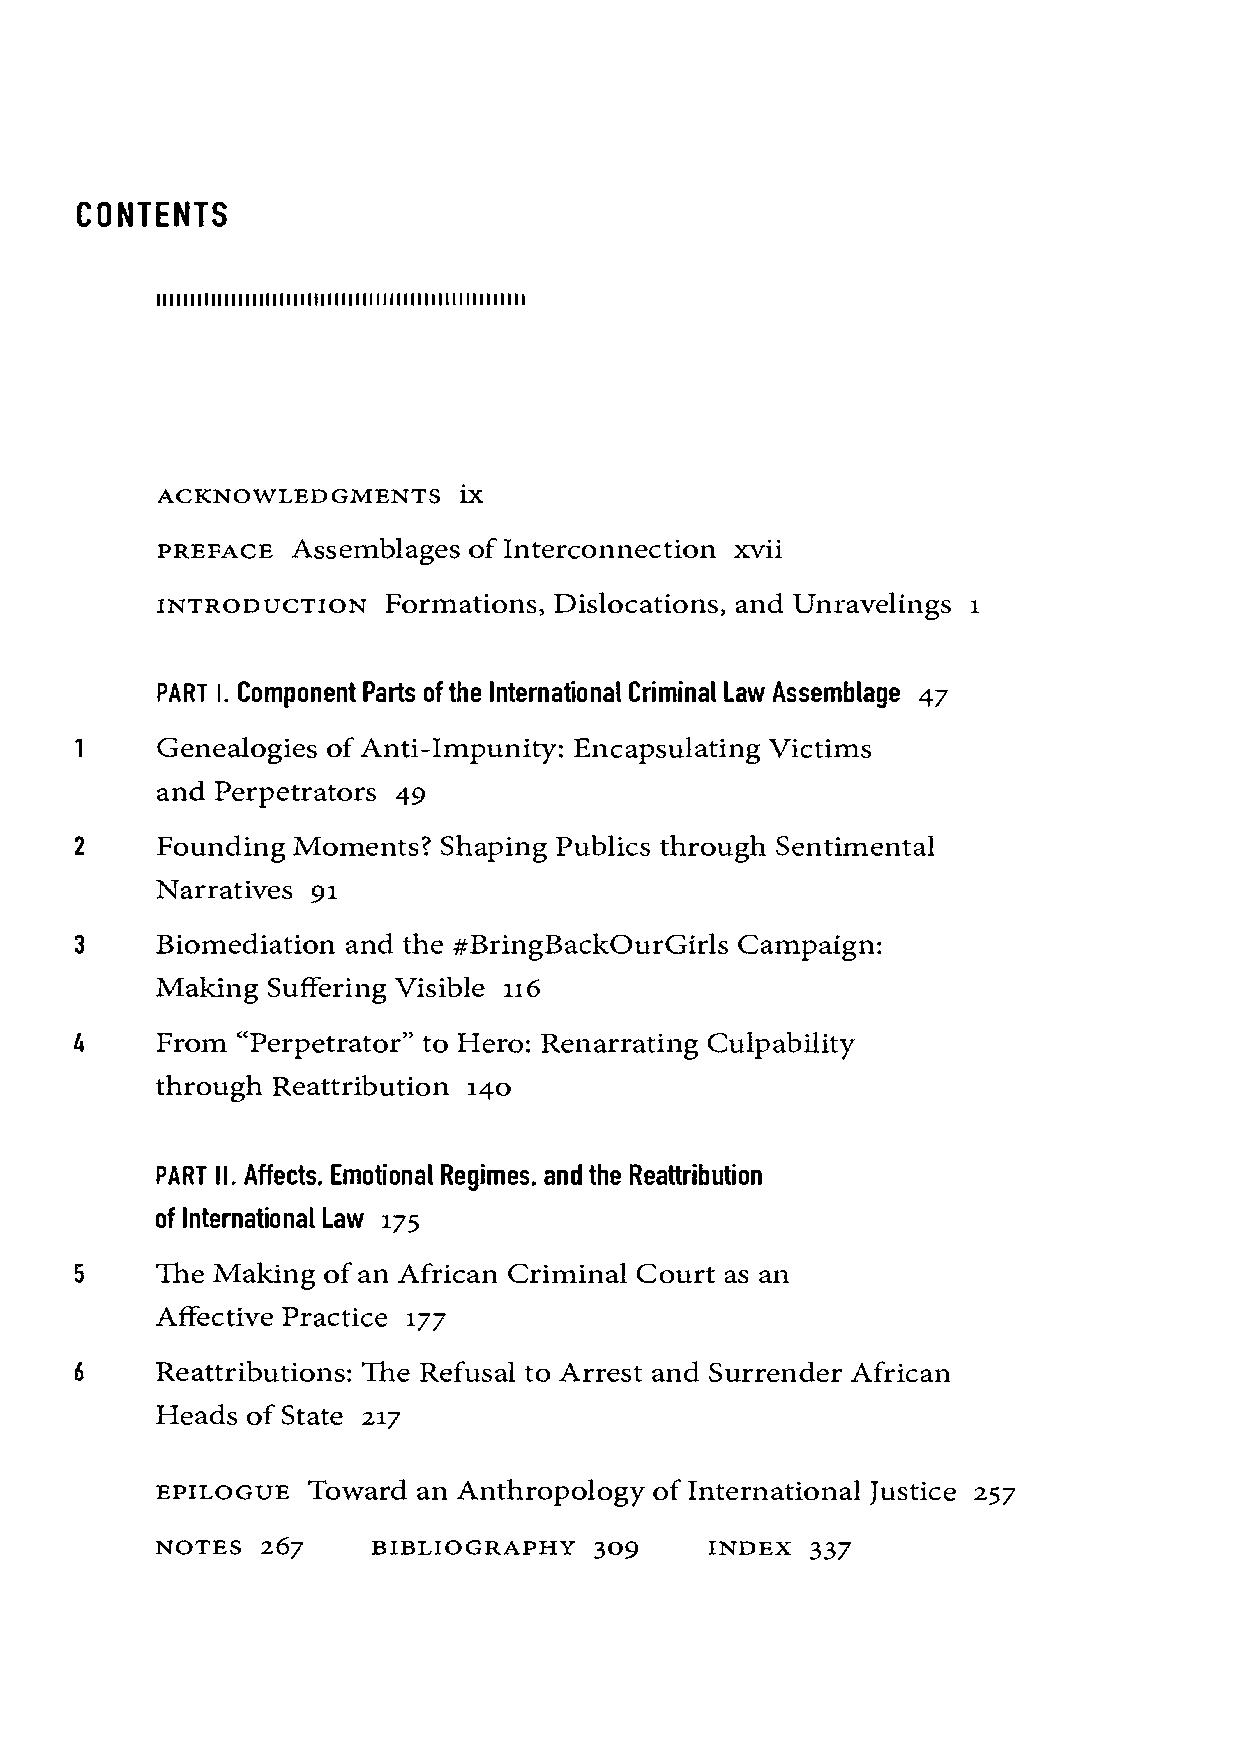TOC_chapter: (71, 827, 937, 862), (68, 1354, 951, 1388), (153, 588, 951, 621), (70, 929, 882, 961), (71, 1027, 855, 1059), (150, 676, 900, 710), (71, 735, 876, 762), (154, 1479, 955, 1503), (68, 1260, 792, 1286), (152, 1164, 766, 1190), (152, 538, 722, 561), (148, 972, 488, 1002), (152, 1070, 450, 1104), (152, 1202, 368, 1233), (157, 482, 442, 505), (154, 778, 378, 807), (154, 1302, 391, 1327), (153, 1400, 345, 1429), (369, 1537, 577, 1559), (152, 874, 298, 900), (153, 1529, 246, 1559), (701, 1537, 796, 1559)
TOC_pagenumber: (974, 1478, 1019, 1510), (588, 1537, 643, 1562), (464, 1078, 515, 1103), (727, 538, 788, 560), (258, 1534, 305, 1559), (377, 1210, 425, 1235), (808, 1537, 851, 1562), (403, 1307, 450, 1330), (360, 1409, 405, 1432), (392, 780, 429, 807), (455, 478, 487, 506), (917, 684, 949, 713), (306, 879, 338, 907), (503, 977, 539, 1000), (966, 597, 982, 619)
chapter: (74, 199, 231, 228)
